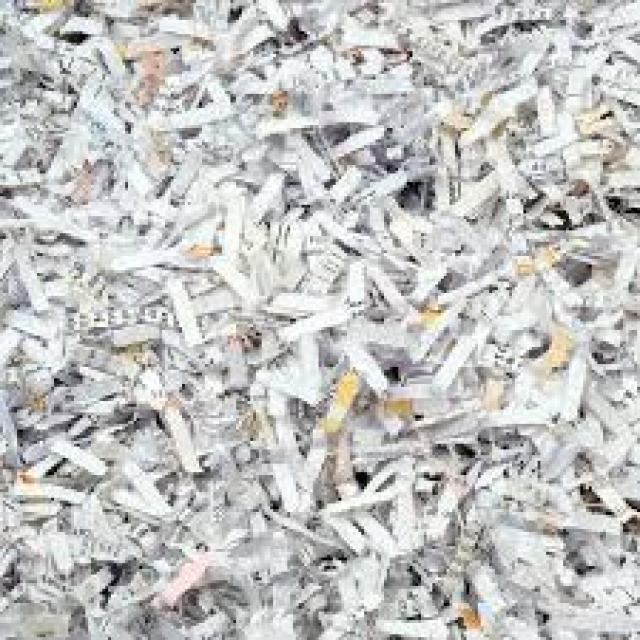trash: (0, 0, 636, 636)
